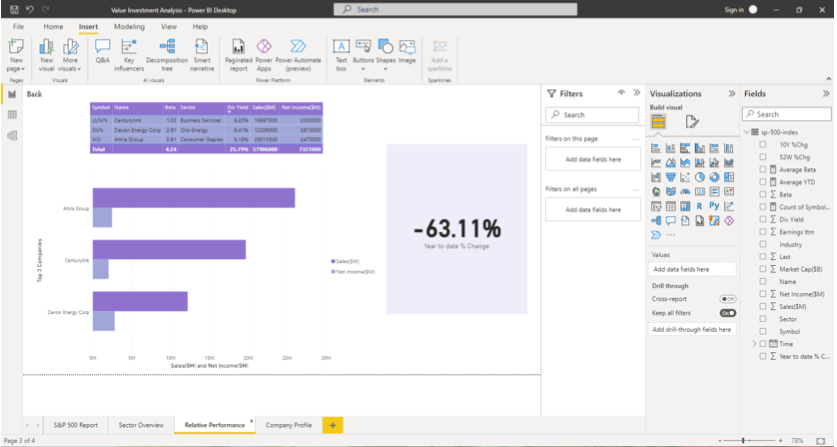

The dashboard page shown, as its layout file describes it:
{"tool":"powerbi","page":{"name":"Relative Performance","canvas":[1280,720],"ordinal":2},"visuals":[{"type":"actionButton","box":[0,0,57,51.3],"z":0},{"type":"tableEx","fields":{"Values":["sp-500-index.Symbol","sp-500-index.Name","Sum(sp-500-index.Beta)","sp-500-index.Sector","Sum(sp-500-index.Div Yield)","Sum(sp-500-index.Sales($M))","Sum(sp-500-index.Net Income($M))"]},"box":[160.6,41.1,589.9,141.4],"z":1000},{"type":"card","fields":{"Values":["Sum(sp-500-index.YTD %Chg)"]},"box":[898.3,149.1,348.3,421.5],"z":2000},{"type":"clusteredBarChart","fields":{"Category":["sp-500-index.Name"],"Y":["Sum(sp-500-index.Sales($M))","Sum(sp-500-index.Net Income($M))"]},"box":[28.3,194.1,855.9,516.6],"z":3000}]}

Visuals, with their boxes on the page's 1280x720 design canvas (x1, y1, x2, y2). These are canvas units, not pixel positions in the 837x447 screenshot, which may show the page scaled, cropped or inside an application window:
actionButton: pyautogui.locateOnScreen(0, 0, 57, 51)
tableEx - sp-500-index.Symbol x sp-500-index.Name: pyautogui.locateOnScreen(161, 41, 750, 182)
card - Sum(sp-500-index.YTD %Chg): pyautogui.locateOnScreen(898, 149, 1247, 571)
clusteredBarChart - sp-500-index.Name x Sum(sp-500-index.Sales($M)): pyautogui.locateOnScreen(28, 194, 884, 711)
